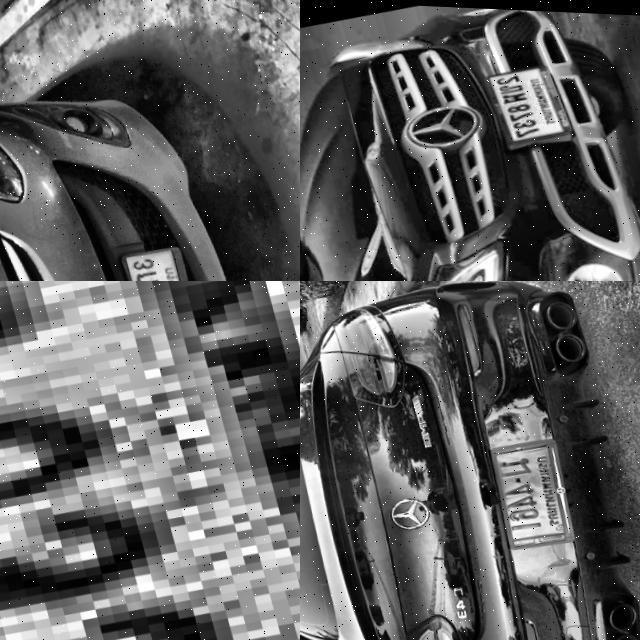license-plate: (0, 281, 300, 640), (474, 427, 581, 553), (481, 54, 577, 151), (112, 238, 200, 281)
